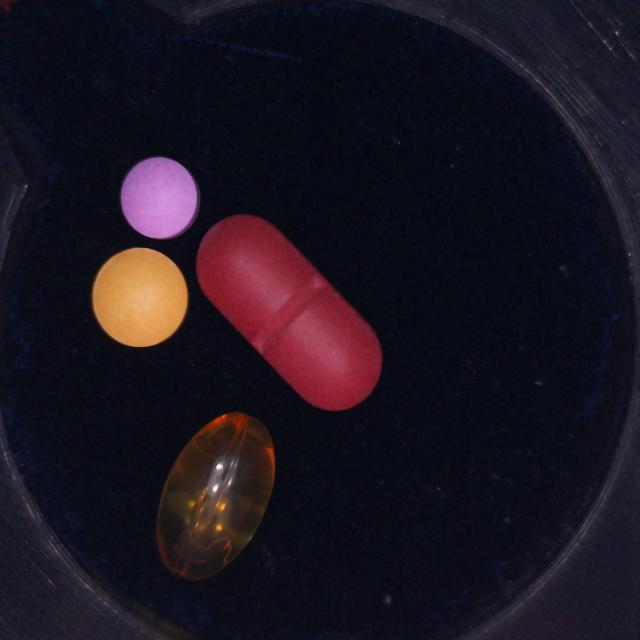Pill: (197, 215, 382, 410), (156, 412, 275, 580), (92, 248, 188, 347), (120, 156, 199, 239)
